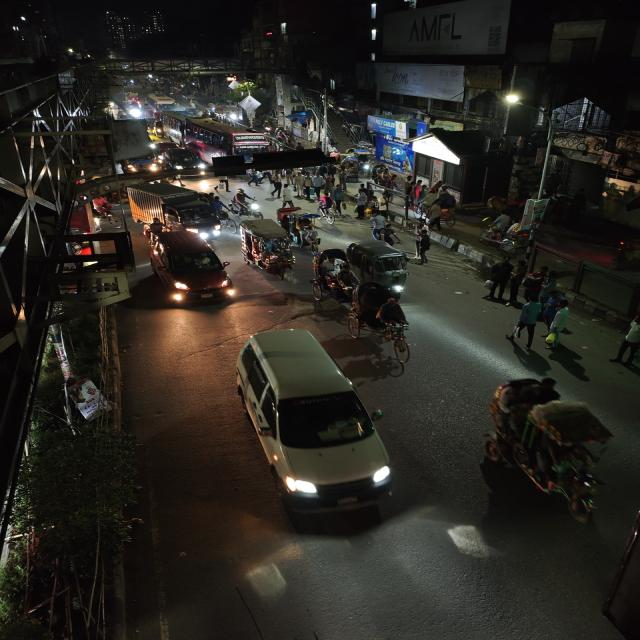bicycle: (315, 188, 340, 226)
bus: (181, 118, 271, 160)
car: (227, 325, 400, 523), (146, 229, 235, 308), (158, 148, 207, 176)
cng: (349, 240, 414, 292)
motorcycle: (231, 187, 264, 217), (140, 217, 166, 241)
pedestrian: (611, 311, 640, 379), (507, 300, 544, 343), (544, 302, 576, 348), (482, 259, 516, 301), (519, 266, 554, 304), (411, 223, 434, 264), (353, 182, 376, 220), (330, 184, 349, 218), (369, 211, 391, 240), (296, 174, 316, 202), (267, 173, 280, 198), (214, 174, 231, 193)
pickup_van: (123, 153, 159, 175)
rickshaw: (475, 373, 628, 519), (352, 284, 417, 361), (305, 252, 362, 326), (237, 218, 298, 280), (478, 217, 528, 255), (282, 207, 322, 250), (418, 187, 459, 227)
truck: (126, 184, 219, 238)
